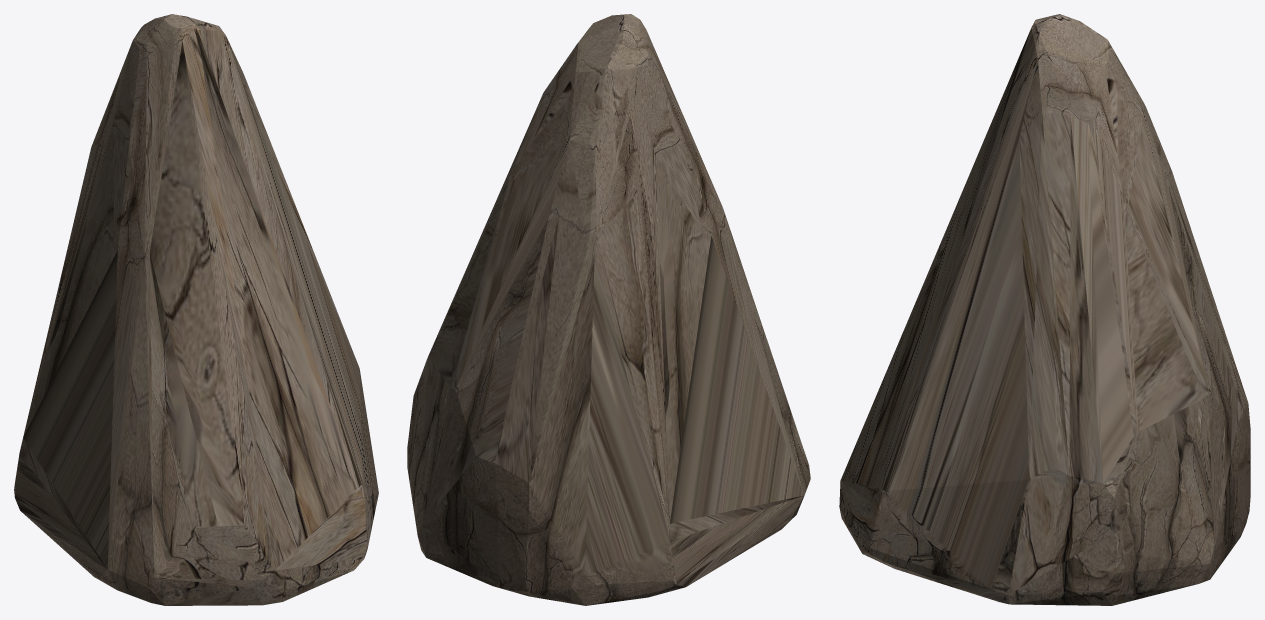
File: Formacion_rocosa_1_closed.glb
3 renders of one model, left to right at view 1: azimuth 30°, elevation 25°; view 2: azimuth 150°, elevation 25°; view 3: azimuth 270°, elevation 25°, orthographic.
Parts seen in each view (by area): view 1: tripo_node_384e82d1-2ece-4912-9d78-4123ce58bbf4; view 2: tripo_node_384e82d1-2ece-4912-9d78-4123ce58bbf4; view 3: tripo_node_384e82d1-2ece-4912-9d78-4123ce58bbf4.
Boxes of the visible parts, <box> form: tripo_node_384e82d1-2ece-4912-9d78-4123ce58bbf4: <box>14,14,378,605</box>; tripo_node_384e82d1-2ece-4912-9d78-4123ce58bbf4: <box>407,14,810,605</box>; tripo_node_384e82d1-2ece-4912-9d78-4123ce58bbf4: <box>839,14,1250,605</box>.
Bounding box in the file's own units: 0.6387 × 0.998 × 0.7363.
Materials: 1 (1 with a texture image).
